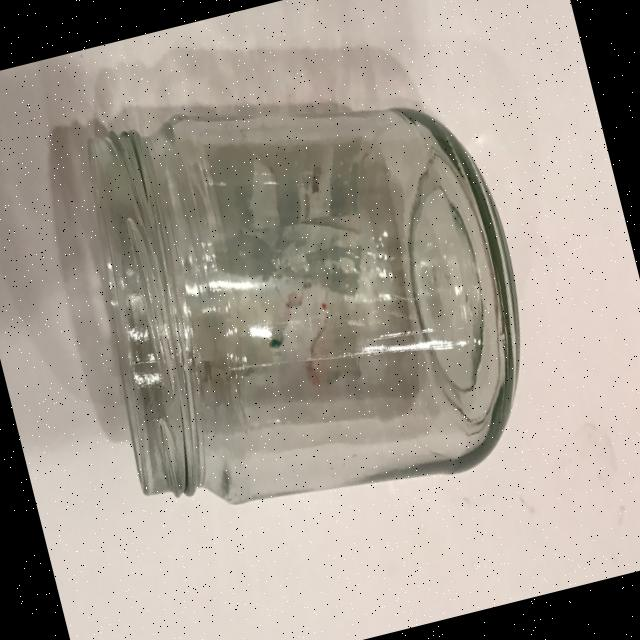glass: (53, 39, 558, 546)
